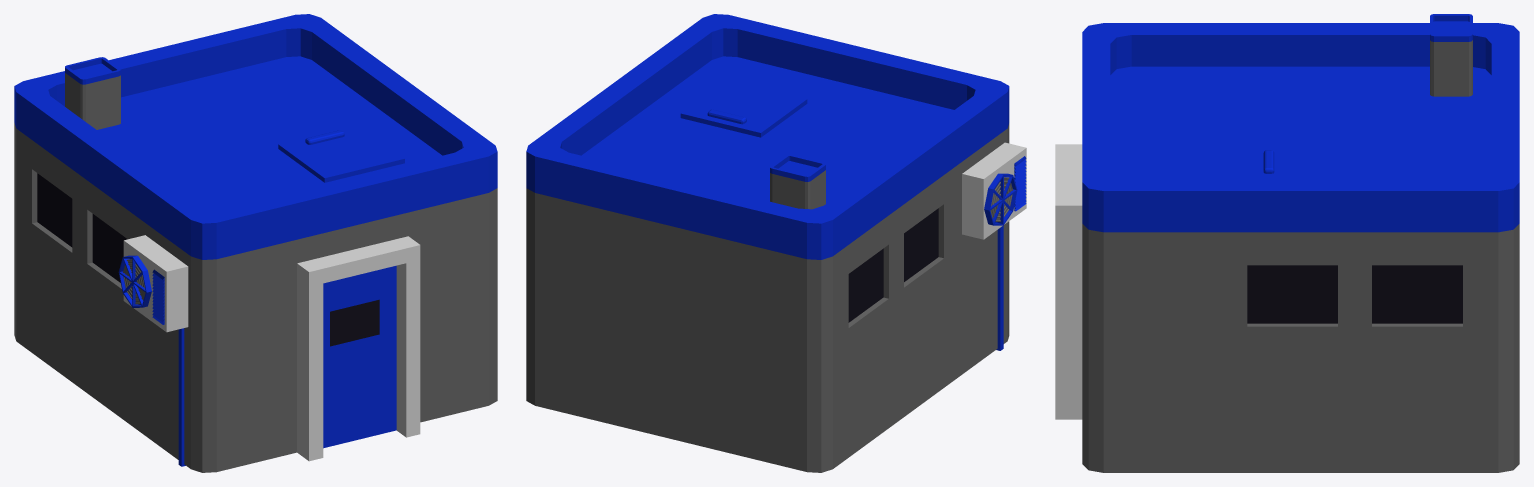
Rendered from Blue_House.fbx.
The picture shows the model from 3 angles, left to right: view 1: azimuth 30°, elevation 25°; view 2: azimuth 150°, elevation 25°; view 3: azimuth 270°, elevation 25°; orthographic projection. The views are drawn at different scales.
Visible parts, largest first — view 1: House blue.001; view 2: House blue.001; view 3: House blue.001.
Part boxes in pixels (bbox=[...]): House blue.001: bbox=[14, 14, 497, 472]; House blue.001: bbox=[526, 14, 1026, 472]; House blue.001: bbox=[1055, 14, 1519, 472].
Bounding box in the file's own units: 124 × 98.6 × 133.
